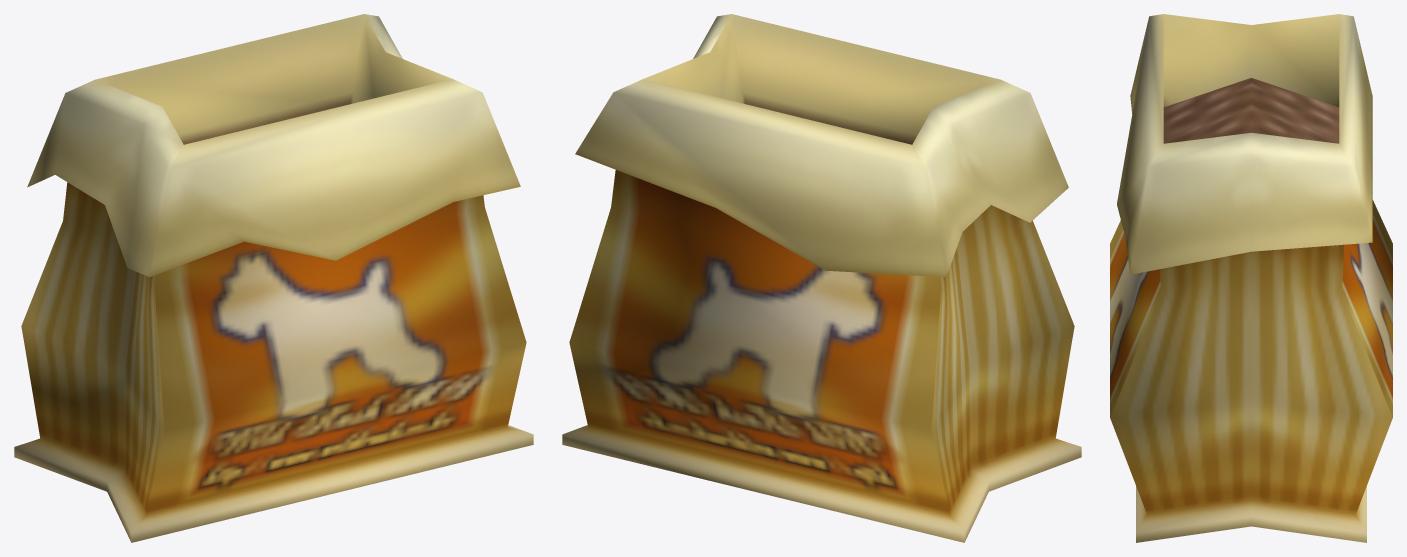
Rendered from a_SWAdog.glb.
3 views of the same model, side by side, from view 1: azimuth 30°, elevation 25°; view 2: azimuth 150°, elevation 25°; view 3: azimuth 270°, elevation 25° (orthographic).
Parts seen in each view (by area): view 1: a_SWAdog; view 2: a_SWAdog; view 3: a_SWAdog.
Boxes of the visible parts, x1,y1,x2,y2 form: a_SWAdog: [14, 14, 533, 542]; a_SWAdog: [562, 14, 1081, 542]; a_SWAdog: [1110, 14, 1392, 542].
Bounding box in the file's own units: 0.7738 × 0.6832 × 0.4768.
1 material, 1 textured.
